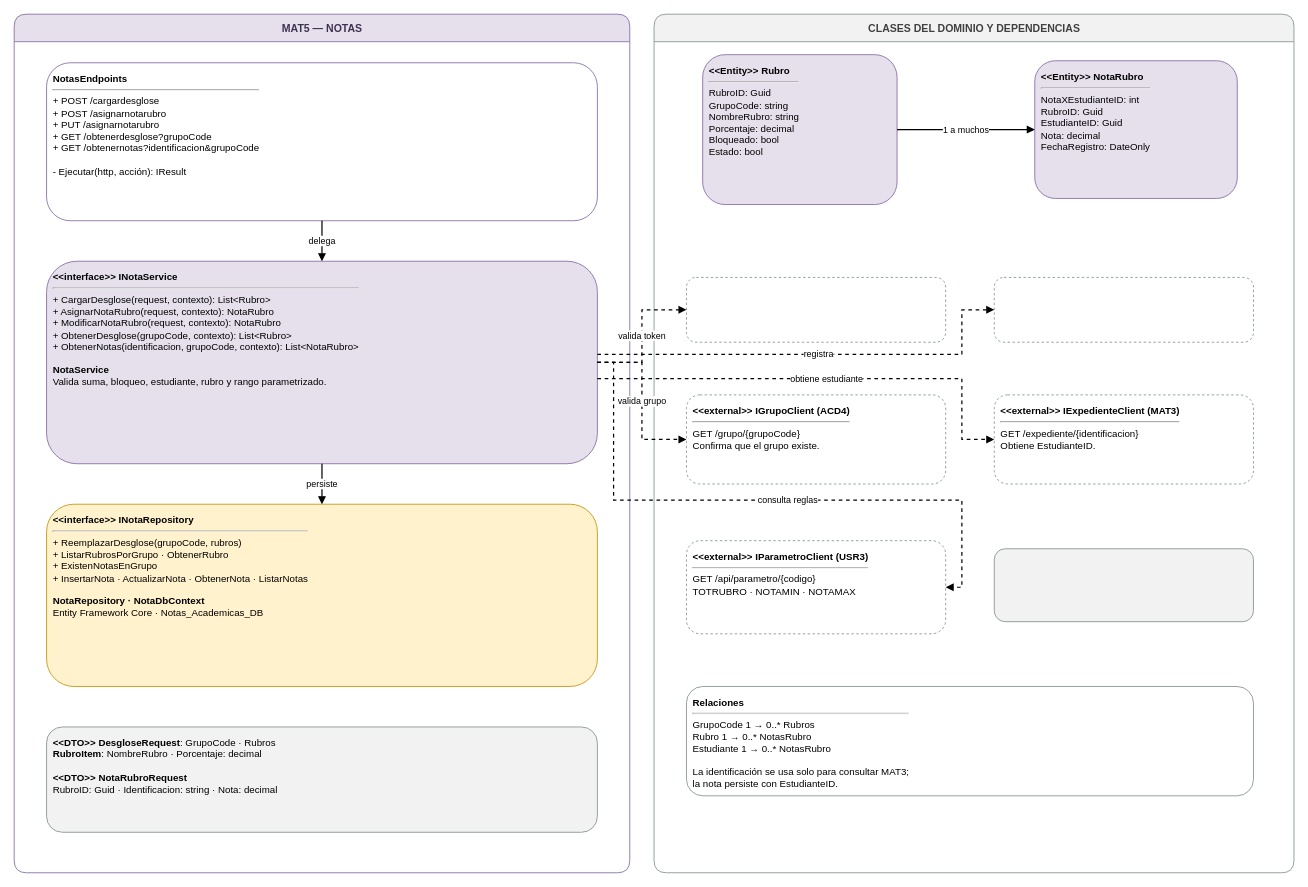
This 1308x887 diagram has some shape labels left out. The shapes that lost their labels are listed below. From the top down, each one's centre as x and y in pixels, then its label:
pixel 816 309: <<external>> IAuthClient (USR5) POST /validate
pixel 1123 309: <<external>> IBitacoraClient (GEN1) POST /bitacora
pixel 1123 585: ContextoUsuario UsuarioId: Guid Token: string
